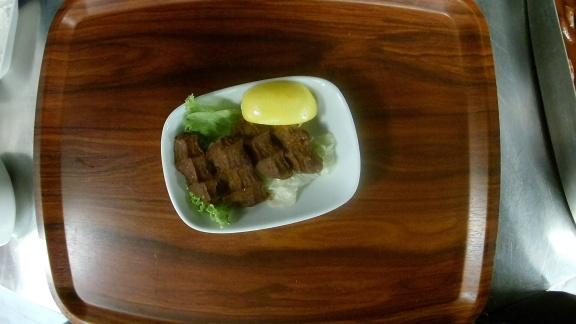cigkofte: (161, 76, 362, 231)
